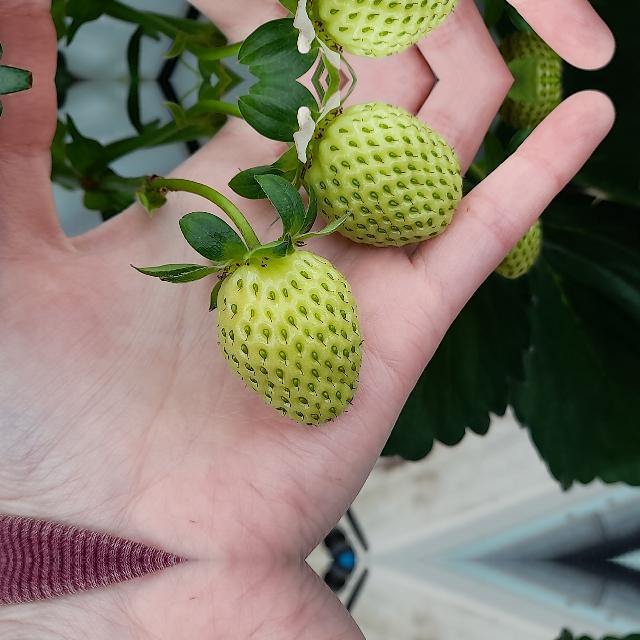Health_25: (215, 250, 362, 424), (302, 95, 466, 249), (302, 0, 465, 65)
